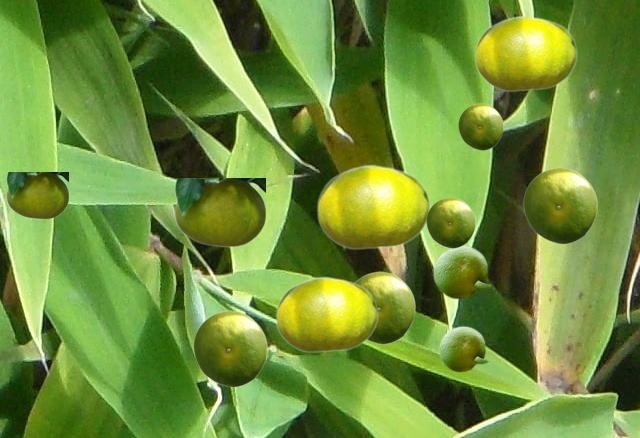dalandan: (316, 164, 429, 249), (474, 15, 576, 91), (275, 276, 377, 352), (174, 178, 264, 246), (193, 310, 266, 386), (523, 167, 596, 243), (355, 271, 414, 343), (432, 245, 491, 298), (6, 172, 67, 218), (426, 197, 474, 247), (438, 325, 488, 371), (458, 103, 502, 149)
